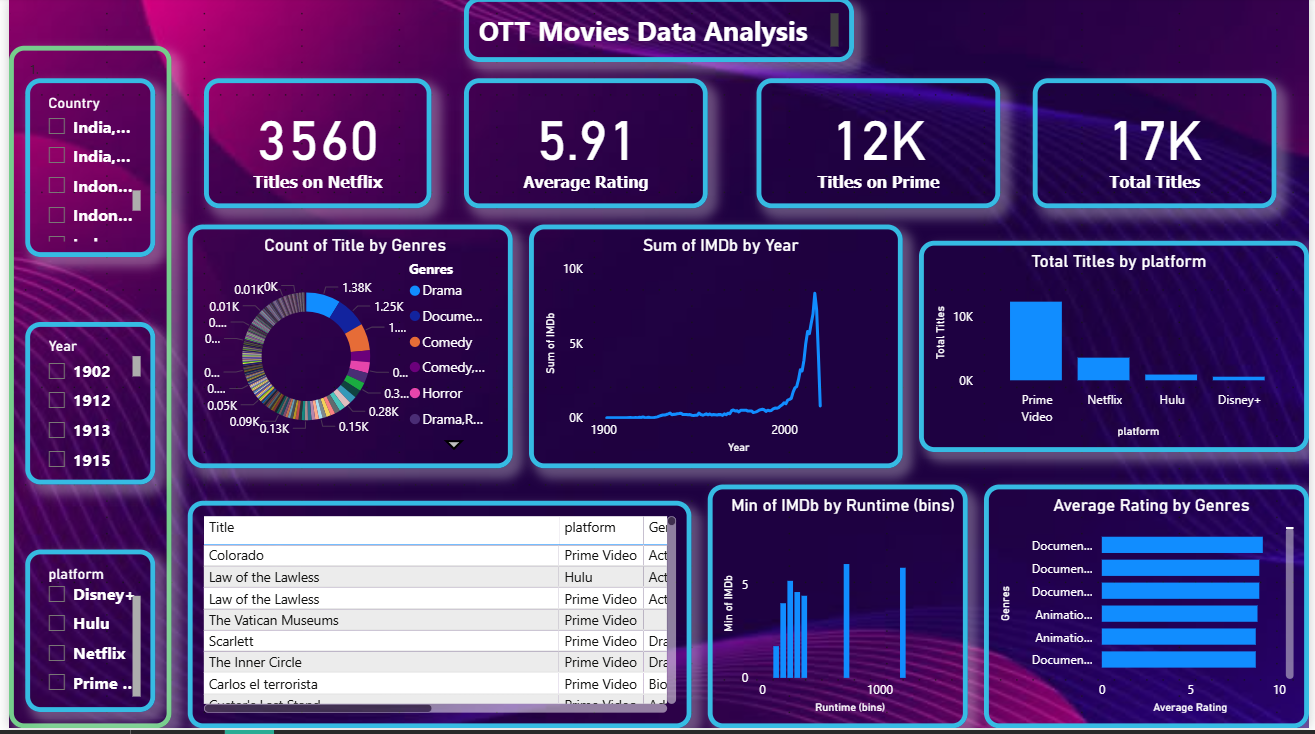

This screenshot's page, from the dashboard's own definition file:
{"tool":"powerbi","page":{"name":"Page 1","canvas":[1280,720],"ordinal":0},"visuals":[{"type":"card","fields":{"Values":["MoviesOnStreamingPlatforms_updated.Average Rating"]},"box":[448,80,240,128],"z":0},{"type":"card","fields":{"Values":["MoviesOnStreamingPlatforms_updated.Total Titles"]},"box":[1008,80,240,128],"z":1000},{"type":"clusteredBarChart","fields":{"Category":["MoviesOnStreamingPlatforms_updated.Genres"],"Y":["MoviesOnStreamingPlatforms_updated.Average Rating"]},"box":[960,480,320,240],"z":2000},{"type":"clusteredColumnChart","fields":{"Category":["MoviesOnStreamingPlatforms_updated.platform"],"Y":["MoviesOnStreamingPlatforms_updated.Total Titles"]},"box":[896,240,384,208],"z":3000},{"type":"card","fields":{"Values":["MoviesOnStreamingPlatforms_updated.Titles on Netflix"]},"box":[192,80,224,128],"z":4000},{"type":"card","fields":{"Values":["MoviesOnStreamingPlatforms_updated.Titles on Prime"]},"box":[736,80,240,128],"z":5000},{"type":"donutChart","fields":{"Y":["CountNonNull(MoviesOnStreamingPlatforms_updated.Title)"],"Category":["MoviesOnStreamingPlatforms_updated.Genres"]},"box":[176,224,320,240],"z":6000},{"type":"lineChart","fields":{"Category":["MoviesOnStreamingPlatforms_updated.Year"],"Y":["Sum(MoviesOnStreamingPlatforms_updated.IMDb)"]},"box":[512,224,368,240],"z":7000},{"type":"clusteredColumnChart","fields":{"Category":["MoviesOnStreamingPlatforms_updated.Runtime (bins)"],"Y":["Min(MoviesOnStreamingPlatforms_updated.IMDb)"]},"box":[688,480,256,240],"z":8000},{"type":"tableEx","fields":{"Values":["MoviesOnStreamingPlatforms_updated.Title","MoviesOnStreamingPlatforms_updated.platform","MoviesOnStreamingPlatforms_updated.Genres","MoviesOnStreamingPlatforms_updated.Year","MoviesOnStreamingPlatforms_updated.IMDb","MoviesOnStreamingPlatforms_updated.Runtime"]},"box":[176,496,496,224],"z":9000},{"type":"slicer","fields":{"Values":["MoviesOnStreamingPlatforms_updated.Country"]},"box":[16,80,128,176],"z":10000},{"type":"textbox","box":[448,0,384,64],"z":11000},{"type":"textbox","box":[0,48,160,672],"z":12000},{"type":"slicer","fields":{"Values":["MoviesOnStreamingPlatforms_updated.platform"]},"box":[16,544,128,160],"z":12001},{"type":"slicer","fields":{"Values":["MoviesOnStreamingPlatforms_updated.Year"]},"box":[16,320,128,160],"z":12002}]}

Visuals, with their boxes in screenshot pixels (x1, y1, x2, y2), scaled from the page's 1280x720 canvas onto the 1315x734 screenshot:
card - MoviesOnStreamingPlatforms_updated.Average Rating: (460,82,707,212)
card - MoviesOnStreamingPlatforms_updated.Total Titles: (1036,82,1282,212)
clusteredBarChart - MoviesOnStreamingPlatforms_updated.Genres x MoviesOnStreamingPlatforms_updated.Average Rating: (986,489,1314,733)
clusteredColumnChart - MoviesOnStreamingPlatforms_updated.platform x MoviesOnStreamingPlatforms_updated.Total Titles: (920,245,1314,457)
card - MoviesOnStreamingPlatforms_updated.Titles on Netflix: (197,82,427,212)
card - MoviesOnStreamingPlatforms_updated.Titles on Prime: (756,82,1003,212)
donutChart - CountNonNull(MoviesOnStreamingPlatforms_updated.Title) x MoviesOnStreamingPlatforms_updated.Genres: (181,228,510,473)
lineChart - MoviesOnStreamingPlatforms_updated.Year x Sum(MoviesOnStreamingPlatforms_updated.IMDb): (526,228,904,473)
clusteredColumnChart - MoviesOnStreamingPlatforms_updated.Runtime (bins) x Min(MoviesOnStreamingPlatforms_updated.IMDb): (707,489,970,733)
tableEx - MoviesOnStreamingPlatforms_updated.Title x MoviesOnStreamingPlatforms_updated.platform: (181,506,690,733)
slicer - MoviesOnStreamingPlatforms_updated.Country: (16,82,148,261)
textbox: (460,0,855,65)
textbox: (0,49,164,733)
slicer - MoviesOnStreamingPlatforms_updated.platform: (16,555,148,718)
slicer - MoviesOnStreamingPlatforms_updated.Year: (16,326,148,489)
